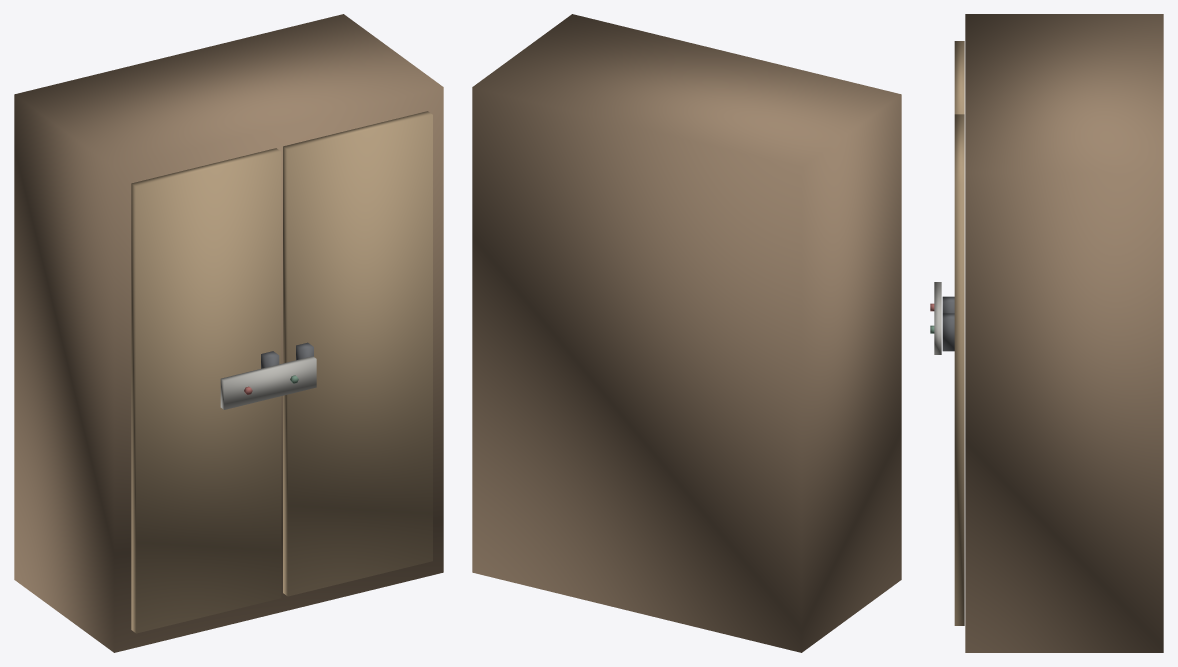
Rendered from tv_stand__reinforced.glb.
3 renders of one model, left to right at view 1: azimuth 30°, elevation 25°; view 2: azimuth 150°, elevation 25°; view 3: azimuth 270°, elevation 25°, orthographic.
Parts seen in each view (by area): view 1: world; view 2: world; view 3: world.
Part boxes in pixels (x1,y1,x2,y2): world: [14, 14, 443, 652]; world: [472, 14, 901, 652]; world: [930, 14, 1163, 652].
Bounding box in the file's own units: 0.9785 × 1.38 × 0.6062.
